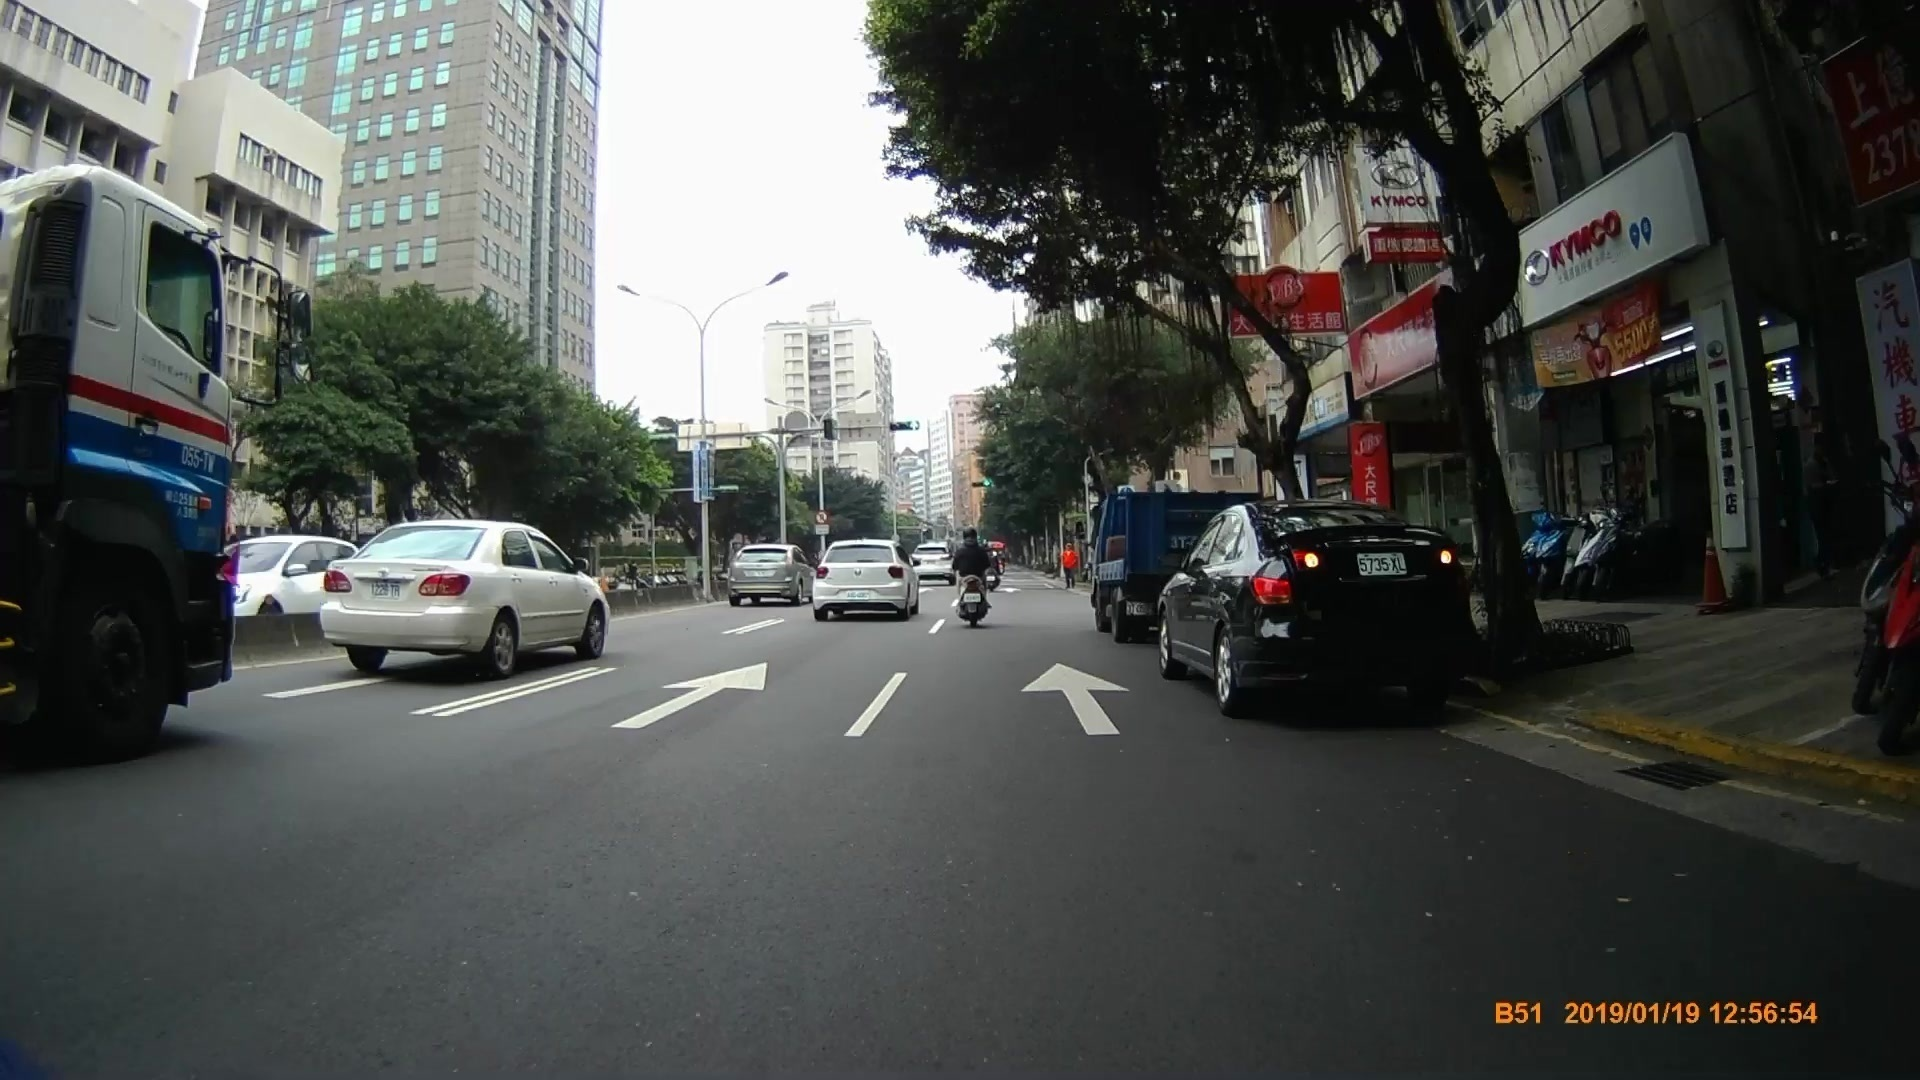License_plate: (1354, 551, 1410, 579), (367, 580, 402, 602)
